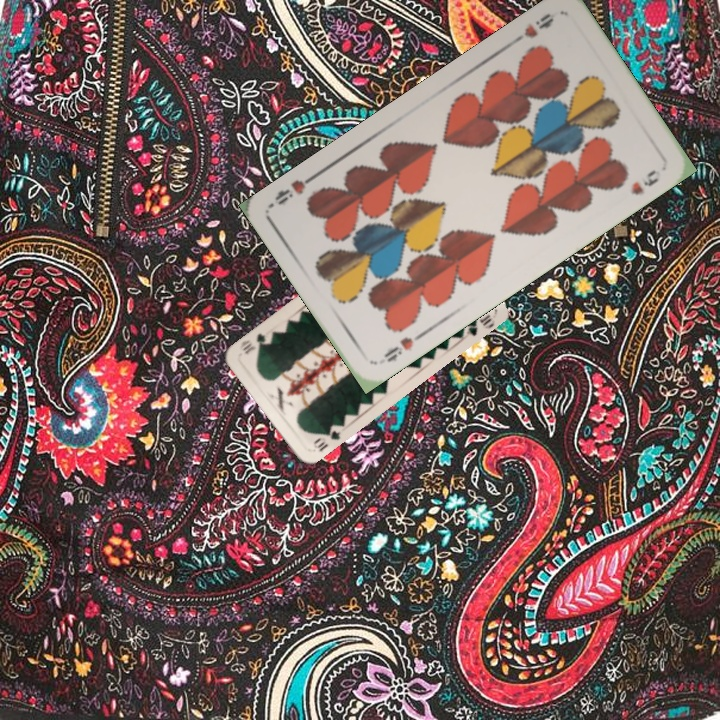G10: (309, 424, 343, 454)
H9: (508, 9, 558, 47), (380, 328, 427, 365)
